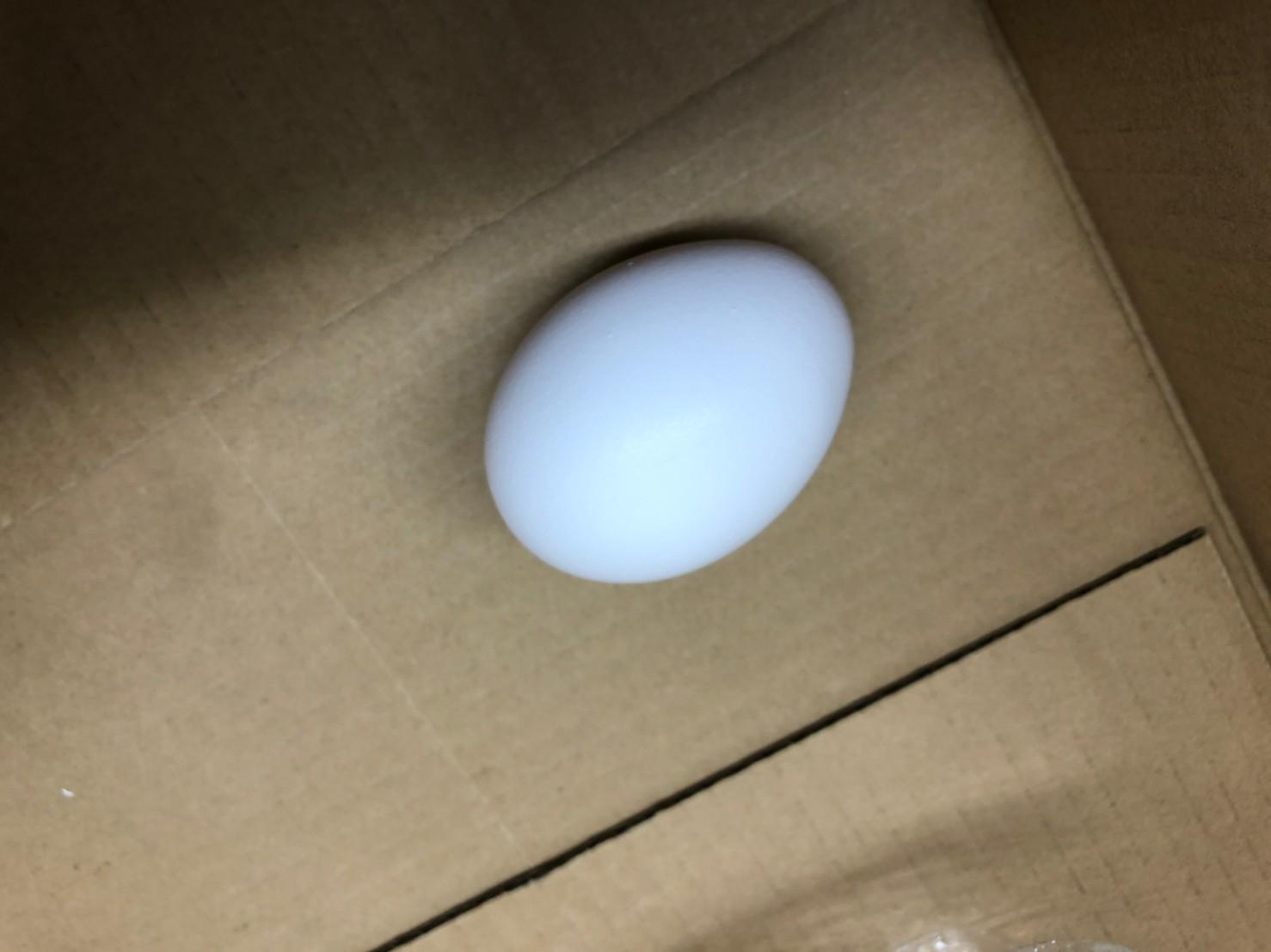egg: (476, 232, 857, 587)
